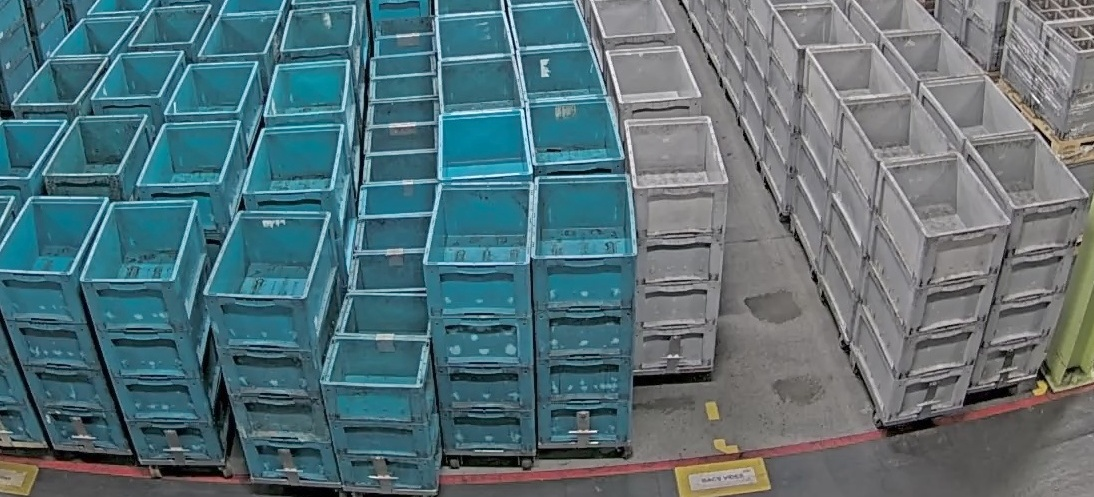4G: (851, 154, 1010, 425), (960, 131, 1090, 393), (624, 119, 729, 371)
B4: (80, 192, 230, 467), (203, 211, 342, 488), (1, 197, 133, 456), (423, 182, 537, 456), (532, 173, 637, 444)
B8: (321, 291, 437, 492)
